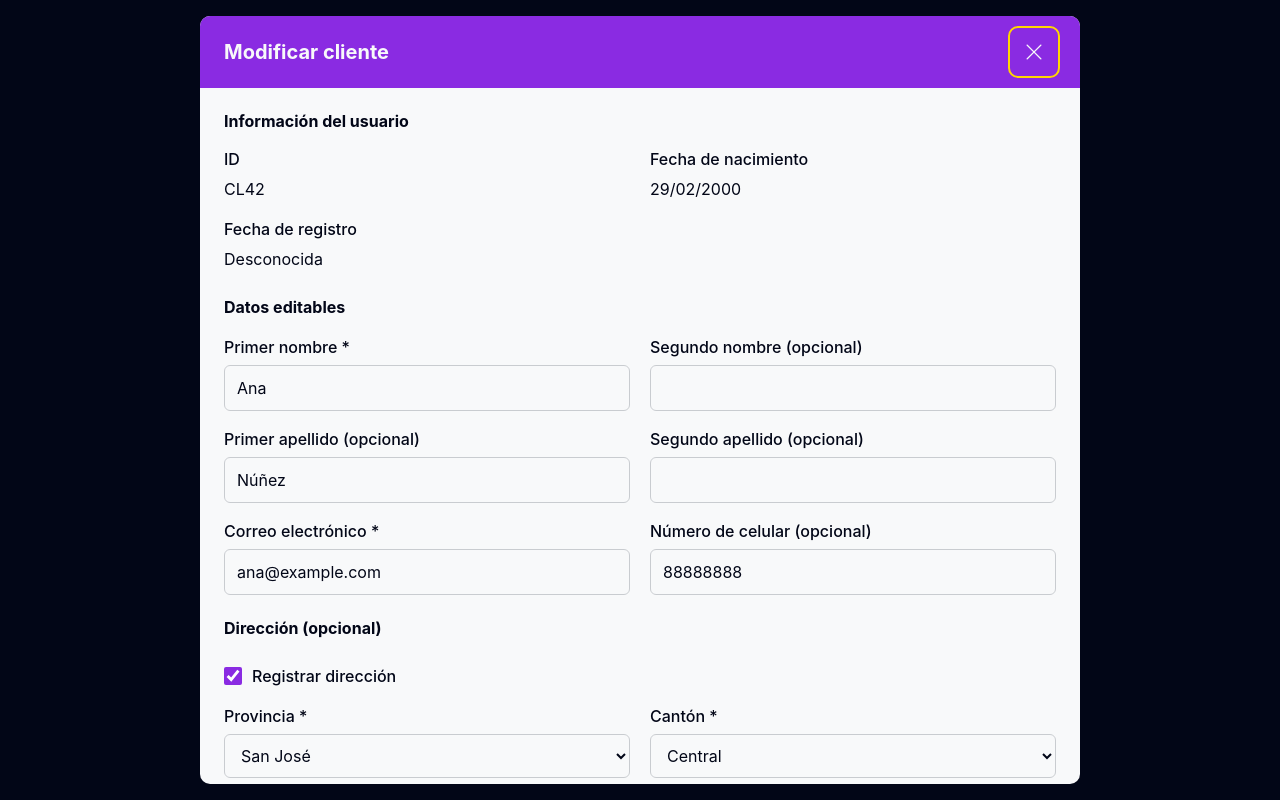
Test: EditUserDialog › shows distinct invalid email and mobile errors
Replace the text in the field named "phoneNumber" with "22222222". click: (853, 572)
box: [650,549,1056,595]
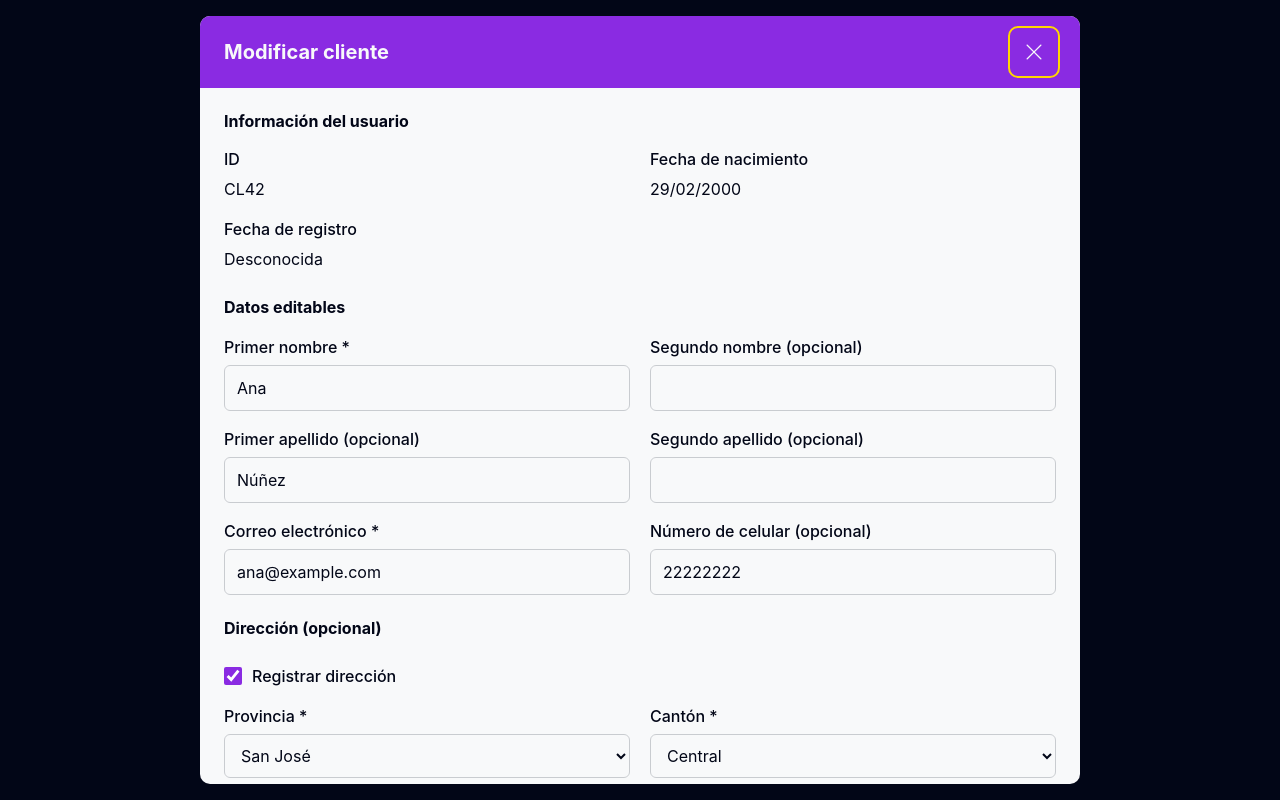
Replace the text in the field named "email" with "bad". click: (427, 572)
box: [224,549,630,595]
(page scrolled)
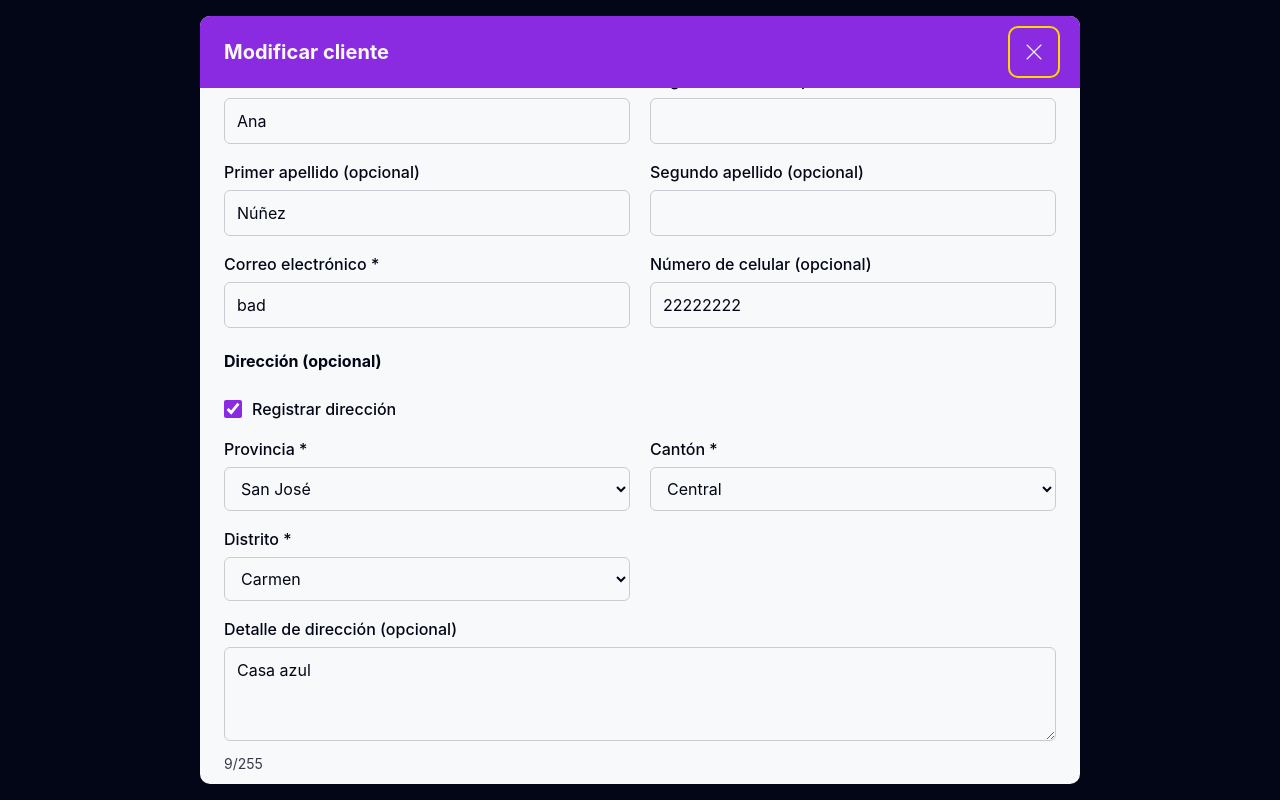
Submit the form
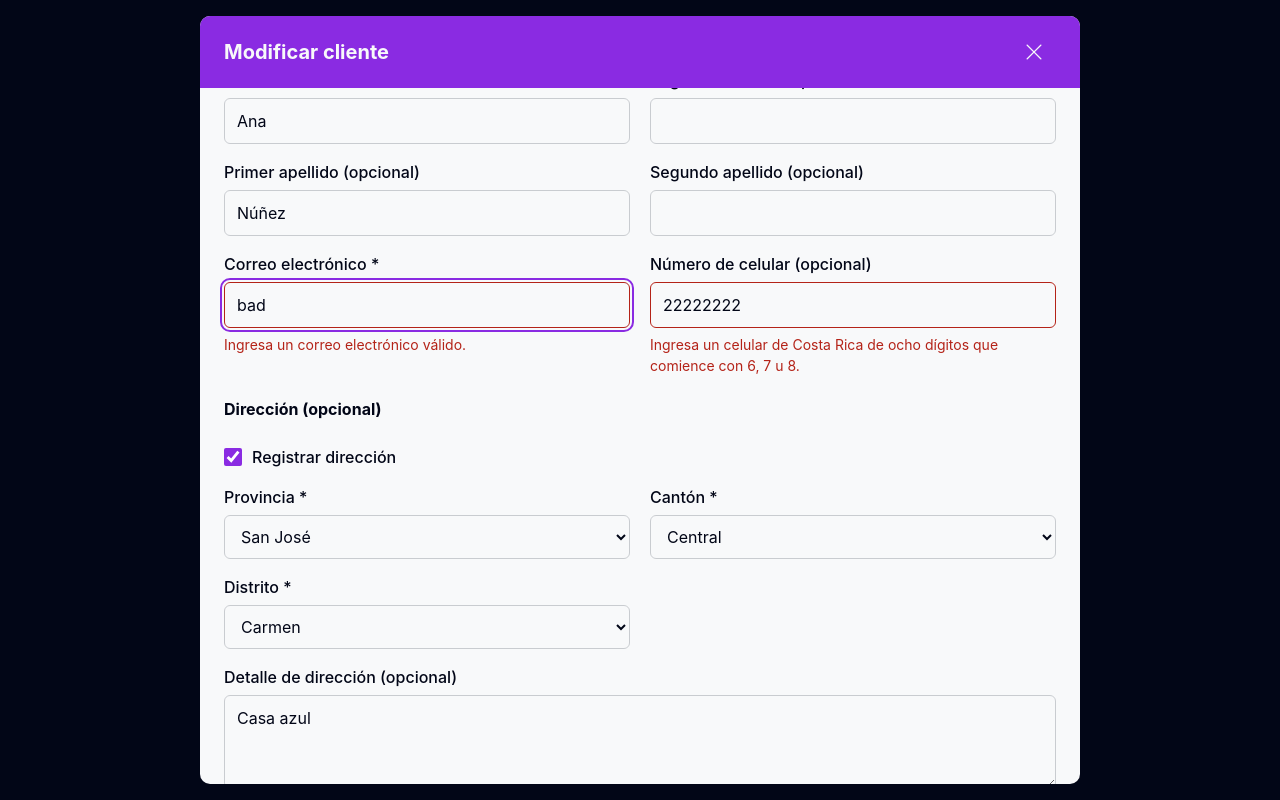
Expected: the text "correo electrónico válido" is shown, [224,336,466,353]
Expected: the text "comience con 6, 7 u 8" is shown, [650,336,998,374]
